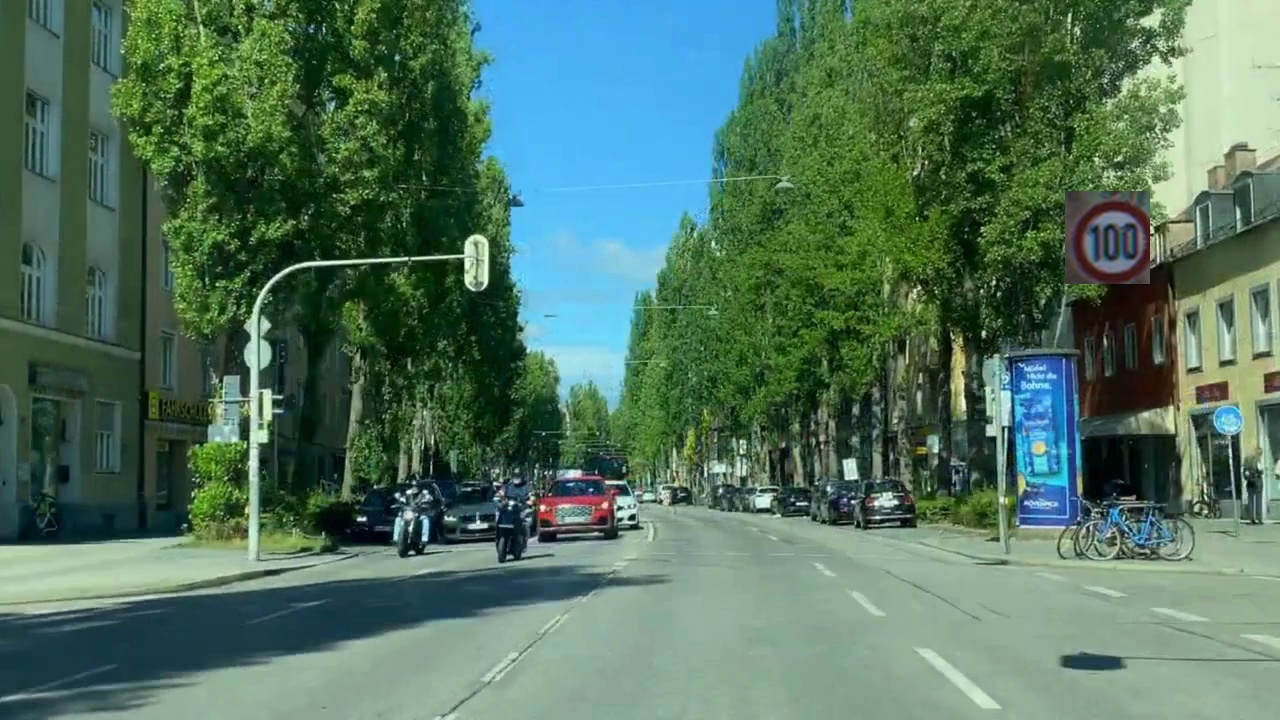Speed 100: (1065, 191, 1150, 284)
